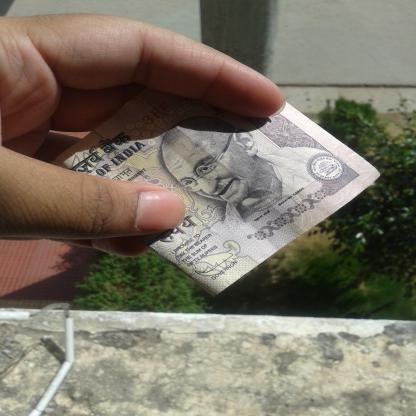Old50Front: (50, 85, 381, 297)
